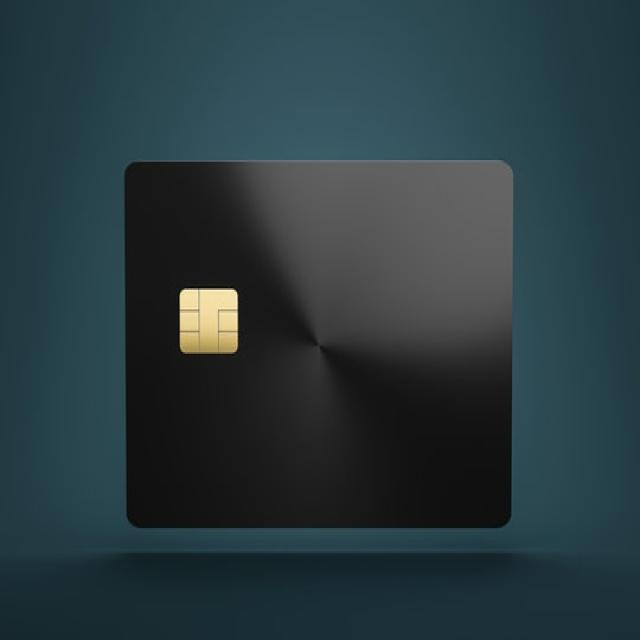payment_card: (123, 158, 514, 529)
